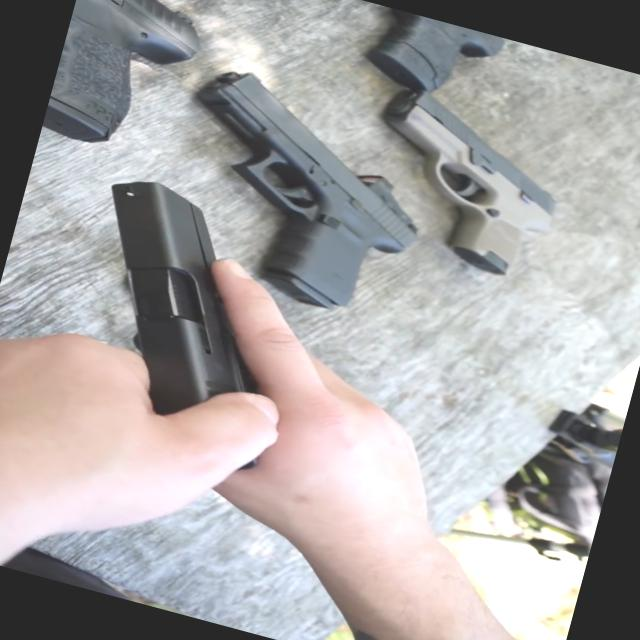handgun: (48, 136, 340, 476), (171, 53, 452, 334), (338, 74, 600, 314)
